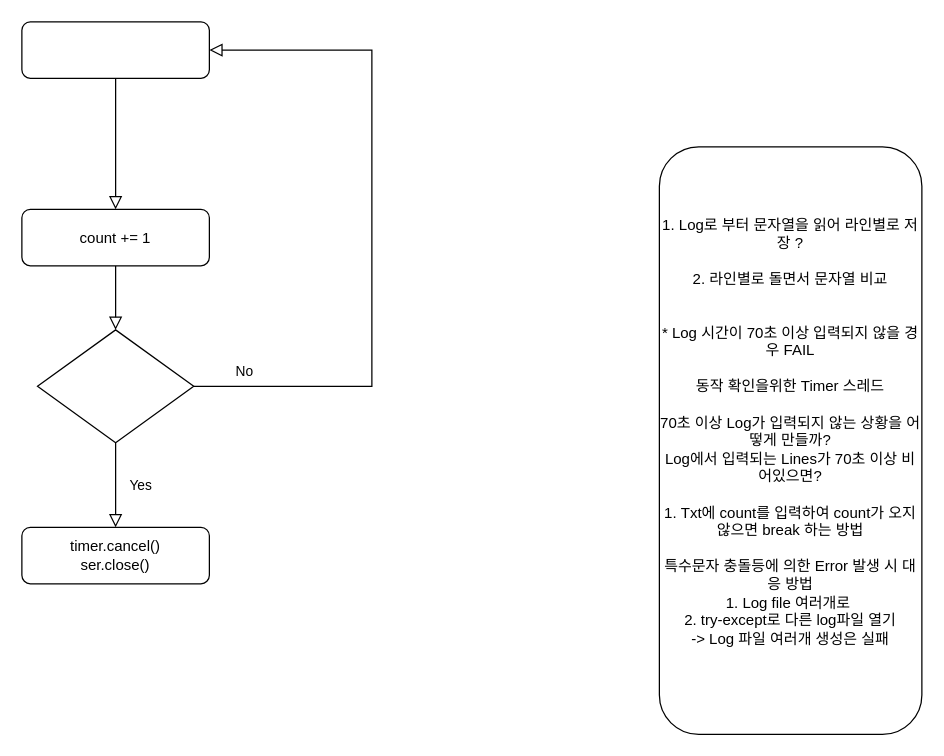
This 944x756 diagram has some shape labels left out. The centre of each missing label's shape, as x and y in pixels:
Count > 130: the point at 115,386
start: the point at 115,49
